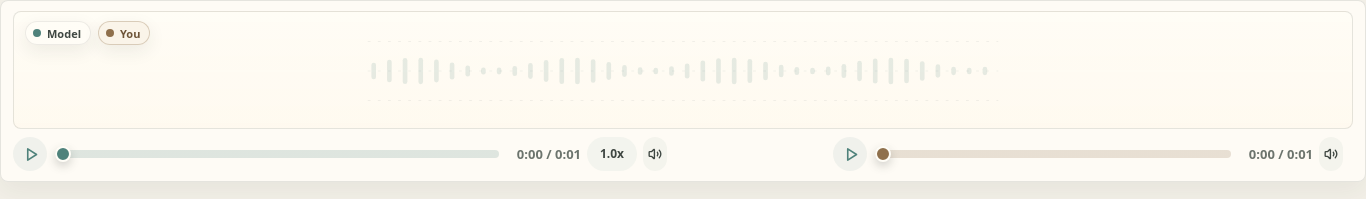
Practice workspace › uses chart legend toggles for model and user waveform series
Expected: the picture named "Model and user waveform" is shown, left=13, top=11, right=1353, bottom=129
Click the button with aria-label "Model waveform". click: (58, 33)
box: left=25, top=21, right=91, bottom=45
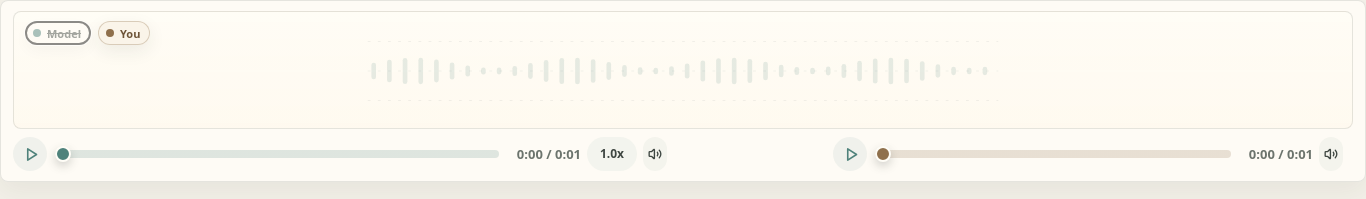
Expected: the picture named "User waveform" is shown, left=13, top=11, right=1353, bottom=129
Expected: the button with aria-label "Model waveform" is not pressed, left=25, top=21, right=91, bottom=45
Click the button with aria-label "You waveform". click: (124, 33)
box: left=98, top=21, right=150, bottom=45
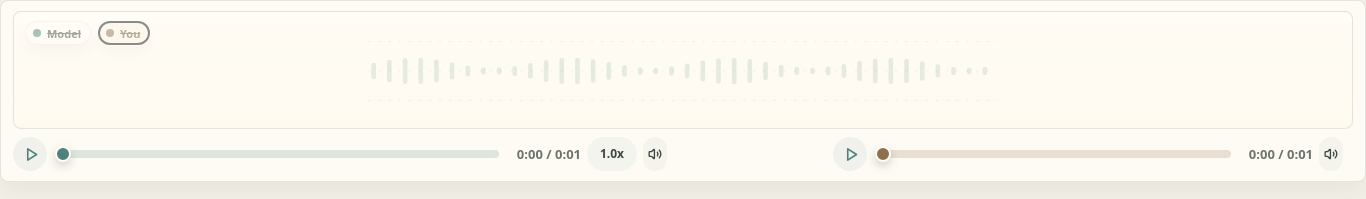
Expected: the picture named "Empty waveform" is shown, left=13, top=11, right=1353, bottom=129
